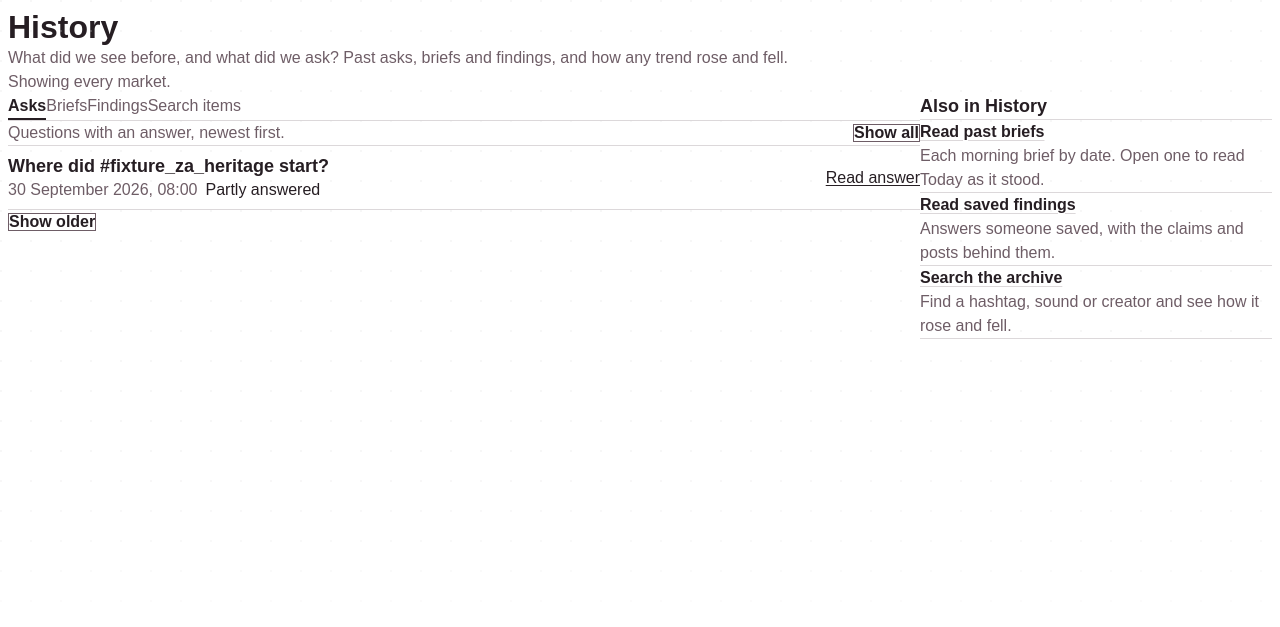
Test: a brief opened from History keeps its date through the Today route
Step 1. Click the tab "Briefs" → coordinates (67, 107), box [46,94,87,120]
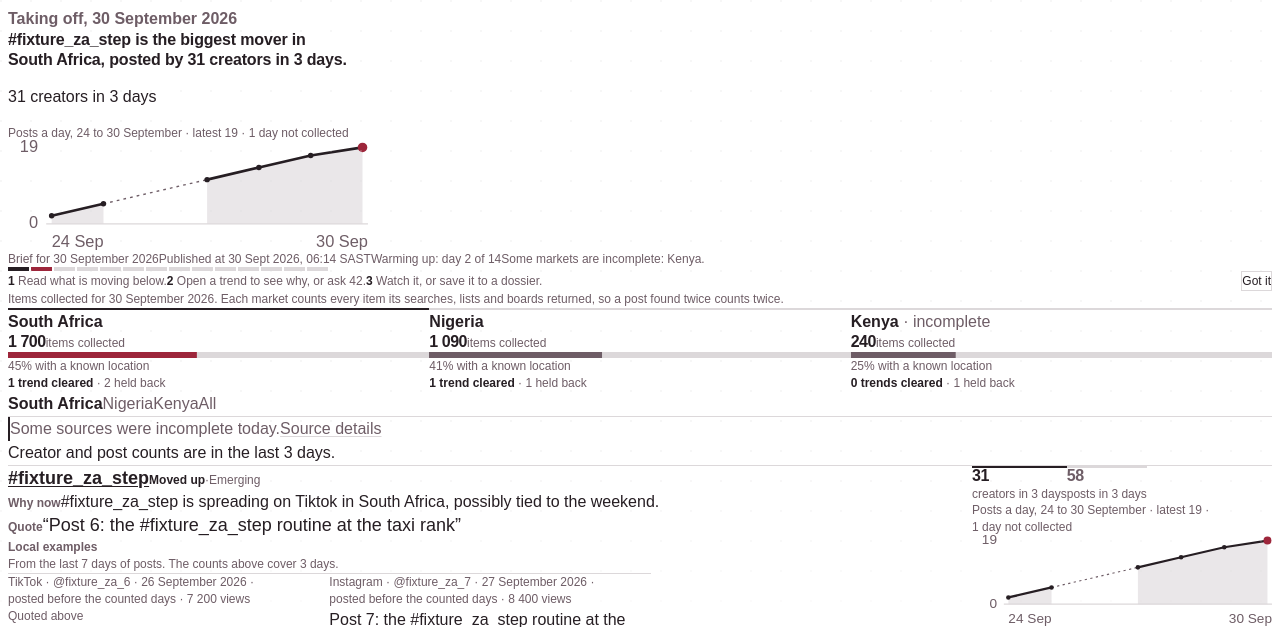
Now the text "Brief for 30 September 2026" is shown, box [8,251,159,267]
Now the heading "#fixture_za_step" is shown, box [8,466,149,490]
